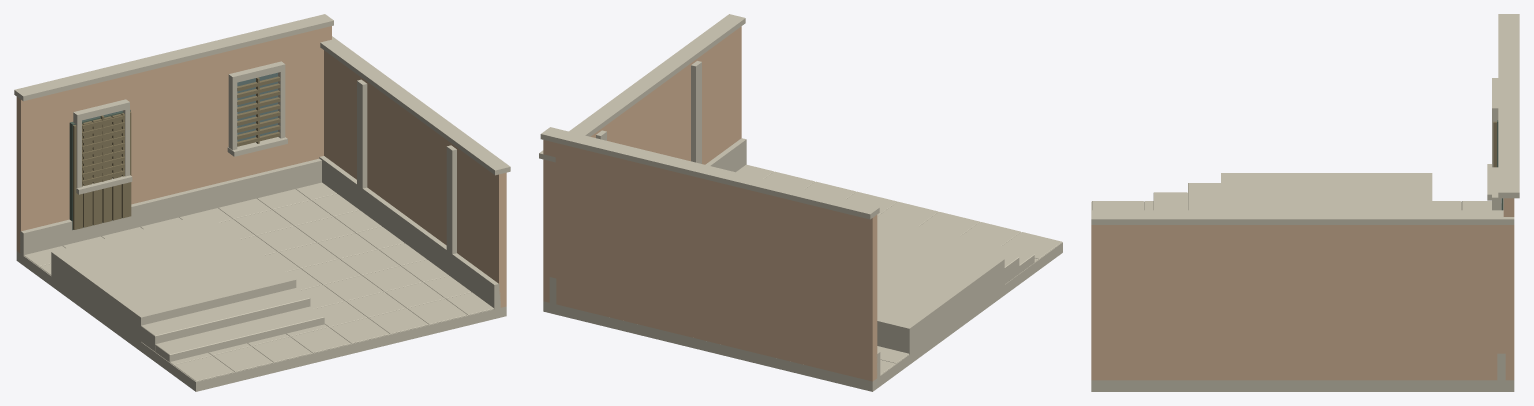
File: district-2-0-0.glb
3 views of the same model, side by side, from view 1: azimuth 30°, elevation 25°; view 2: azimuth 150°, elevation 25°; view 3: azimuth 270°, elevation 25° (orthographic). The views are drawn at different scales.
Visible parts, largest first — view 1: stone.002, plaster.002, wood.002, glass.002, metal.001; view 2: plaster.002, stone.002; view 3: plaster.002, stone.002.
Part boxes in pixels (box(x1,y1,x2,y2)): stone.002: box(14, 14, 510, 391); plaster.002: box(16, 26, 506, 307); wood.002: box(73, 76, 280, 229); glass.002: box(82, 72, 277, 141); metal.001: box(69, 110, 130, 229); plaster.002: box(543, 26, 877, 381); stone.002: box(539, 14, 1062, 391); plaster.002: box(1091, 198, 1514, 380); stone.002: box(1091, 14, 1519, 391).
Bounding box in the file's own units: 8.1 × 4.16 × 8.1.
